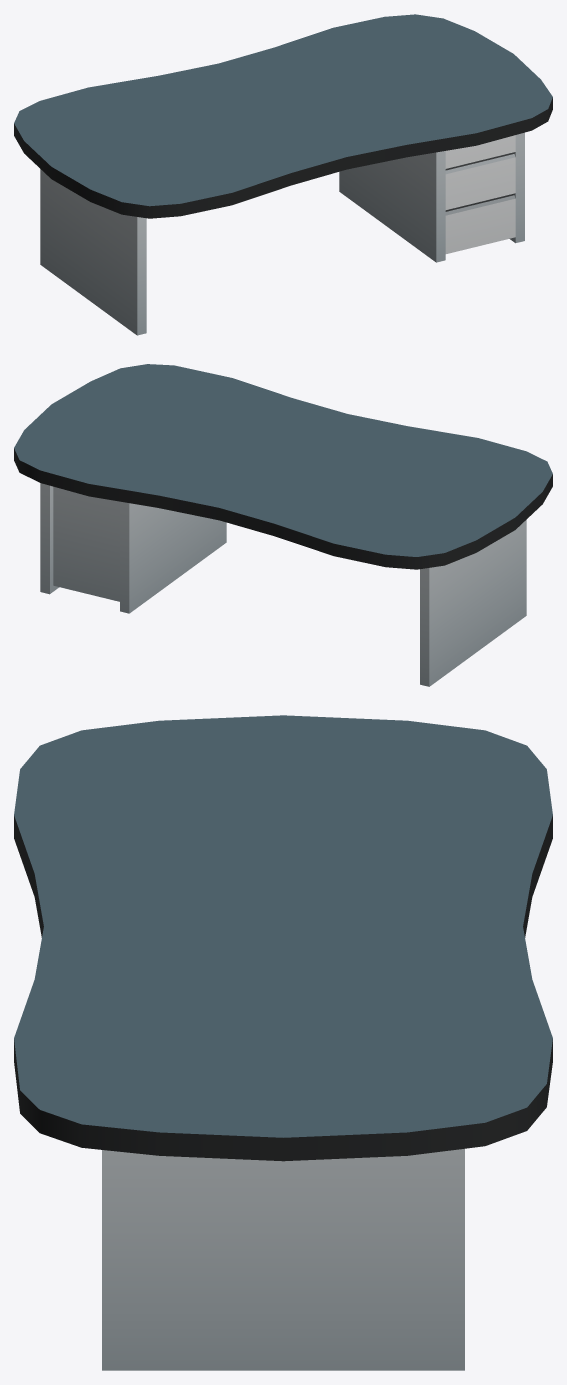
The model's file is Table_06.obj.
The picture shows the model from 3 angles, top to bottom: view 1: azimuth 30°, elevation 25°; view 2: azimuth 150°, elevation 25°; view 3: azimuth 270°, elevation 25°; orthographic projection. The views are drawn at different scales.
Parts seen in each view (by area): view 1: Table_06; view 2: Table_06; view 3: Table_06.
Boxes of the visible parts, bbox=[...] form: Table_06: bbox=[14, 14, 552, 335]; Table_06: bbox=[14, 364, 552, 686]; Table_06: bbox=[14, 715, 552, 1370].
Bounding box in the file's own units: 2.71 × 0.7969 × 1.46.
Materials: 1 (1 with a texture image).
